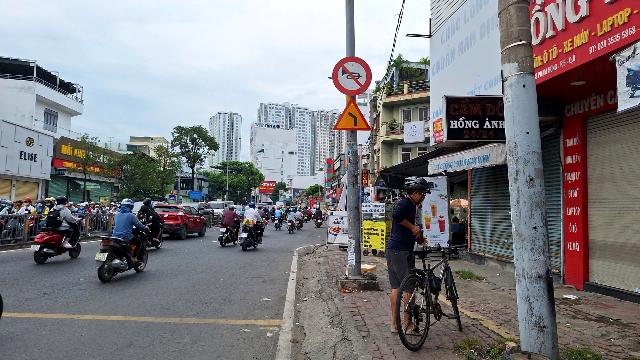cam-bop-coi: (332, 56, 372, 97)
cho-ngoat-nguy-hiem-ben-trai: (333, 98, 371, 131)
